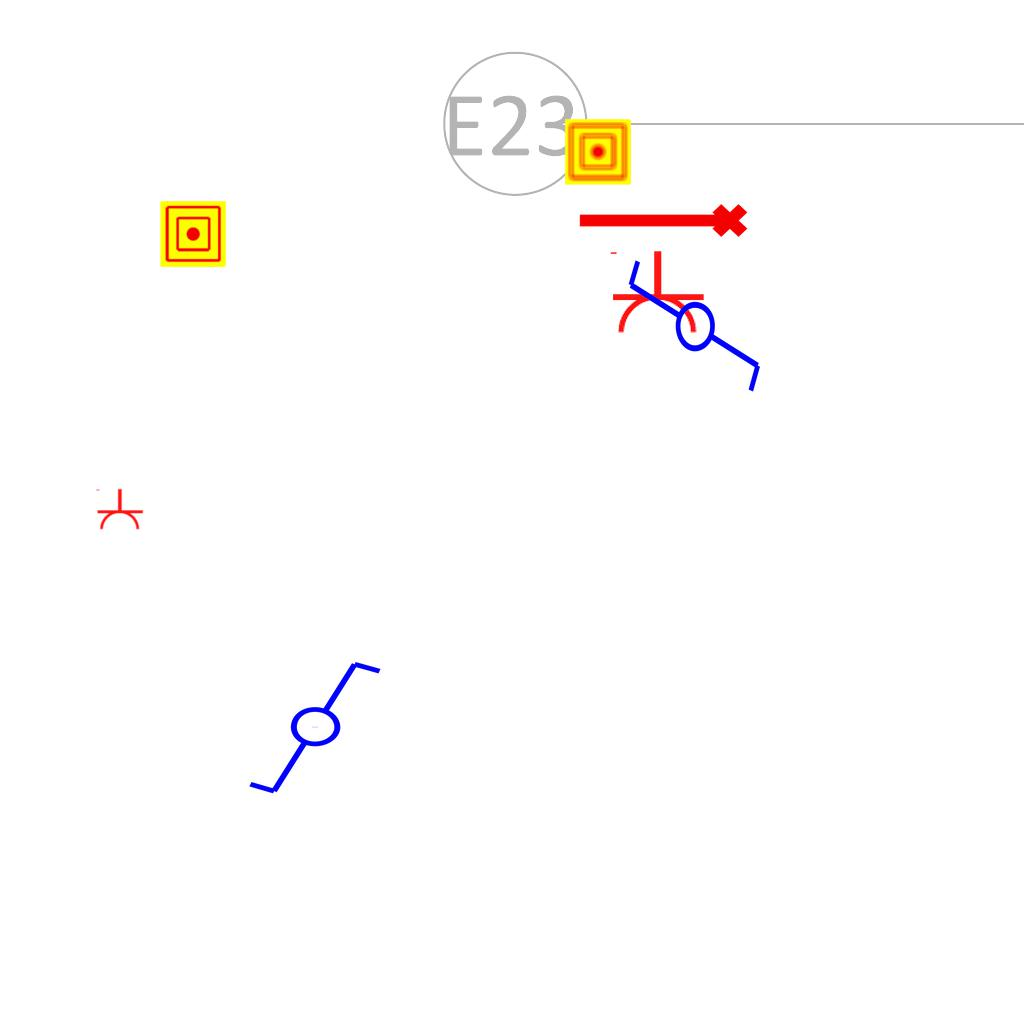ASR_Ansaugoeffnung: (574, 200, 750, 246)
NAM-Nichtautomatischer_Melder: (160, 201, 226, 267), (565, 119, 631, 185)
Schukosteckdose_einfach: (606, 249, 706, 336), (94, 488, 144, 531)
Wechselschalter: (245, 657, 402, 801), (621, 256, 765, 413)
